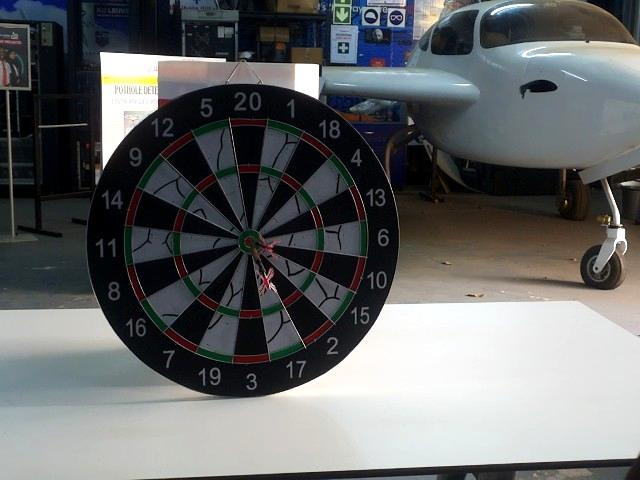bullseye: (243, 234, 260, 252)
